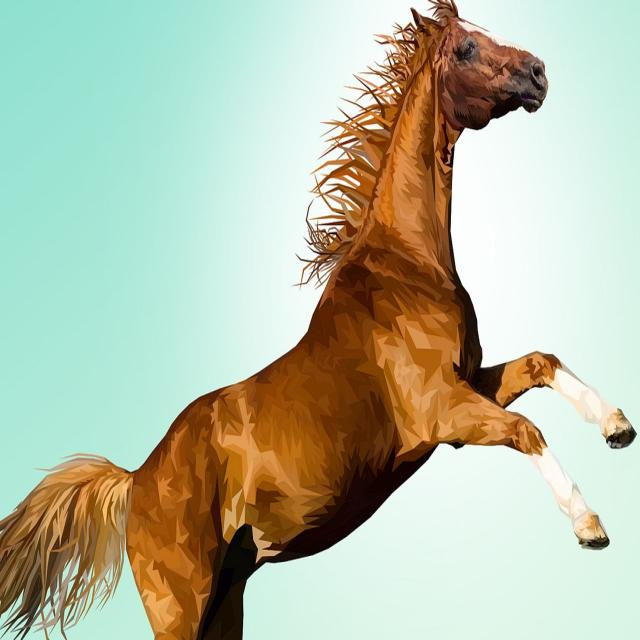animal: (205, 14, 627, 580)
